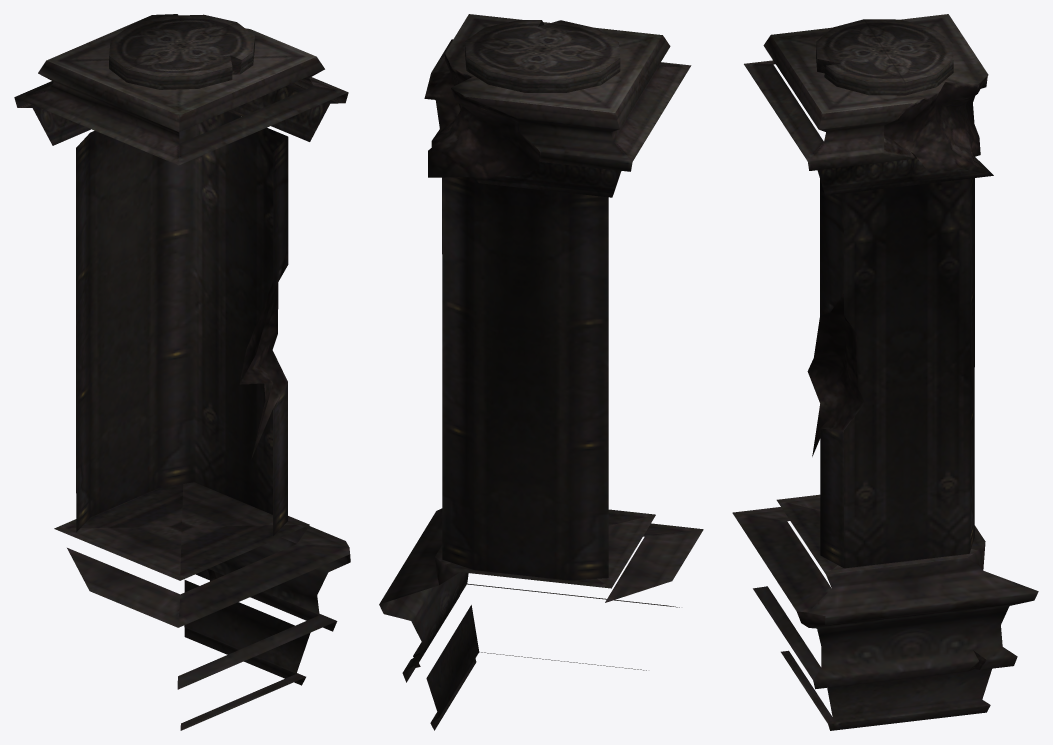
Rendered from S2_Build_XSC113_L2.FBX.
The picture shows the model from 3 angles, left to right: view 1: azimuth 30°, elevation 25°; view 2: azimuth 150°, elevation 25°; view 3: azimuth 270°, elevation 25°; orthographic projection. The views are drawn at different scales.
Visible parts, largest first — view 1: S2_Build_XSC113_L2; view 2: S2_Build_XSC113_L2; view 3: S2_Build_XSC113_L2.
Boxes of the visible parts, x1,y1,x2,y2 form: S2_Build_XSC113_L2: [14, 14, 350, 730]; S2_Build_XSC113_L2: [379, 14, 703, 730]; S2_Build_XSC113_L2: [732, 14, 1038, 730].
Size of the model in its own units: 825 by 1933 by 846.
